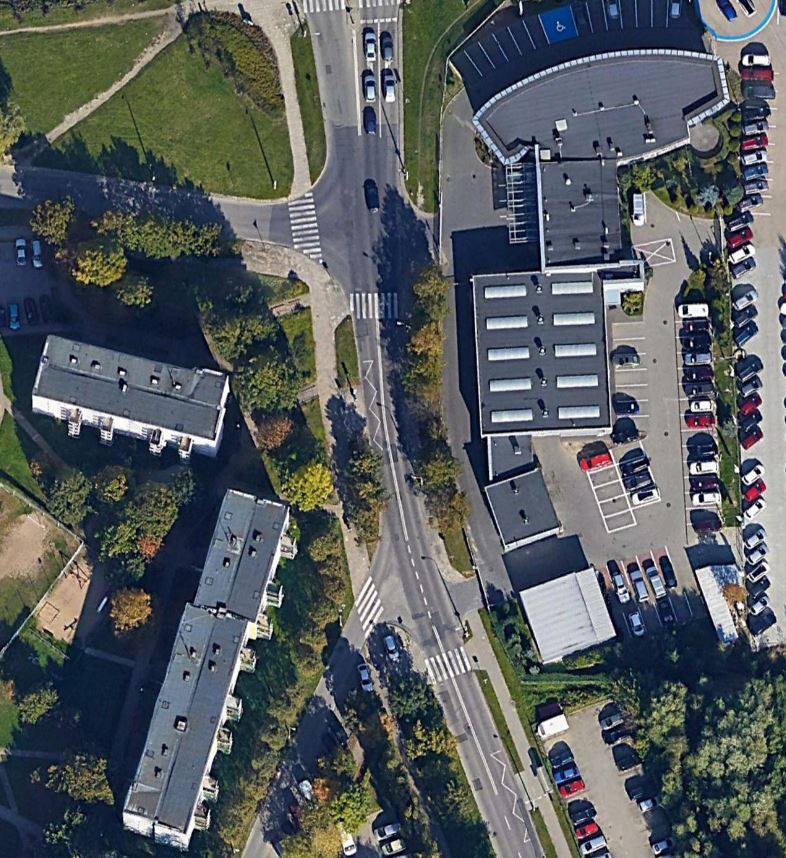block of flats: (109, 474, 321, 853), (24, 331, 240, 467)
shopping_center: (459, 39, 736, 450)
